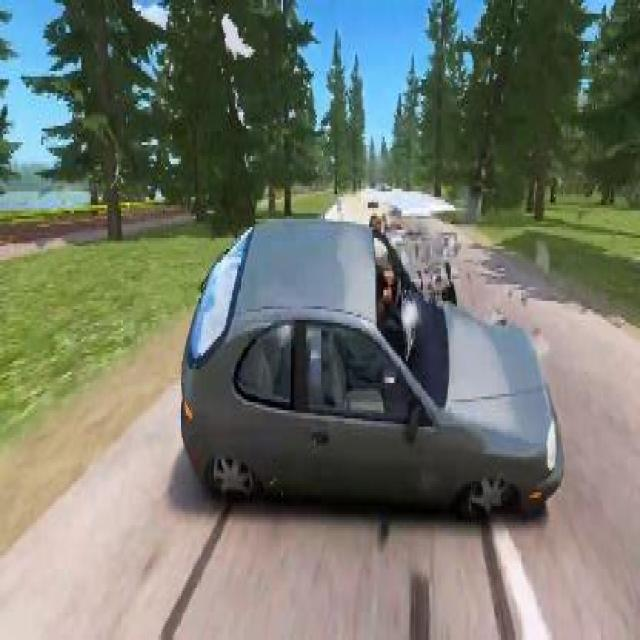accident: (169, 172, 571, 534)
